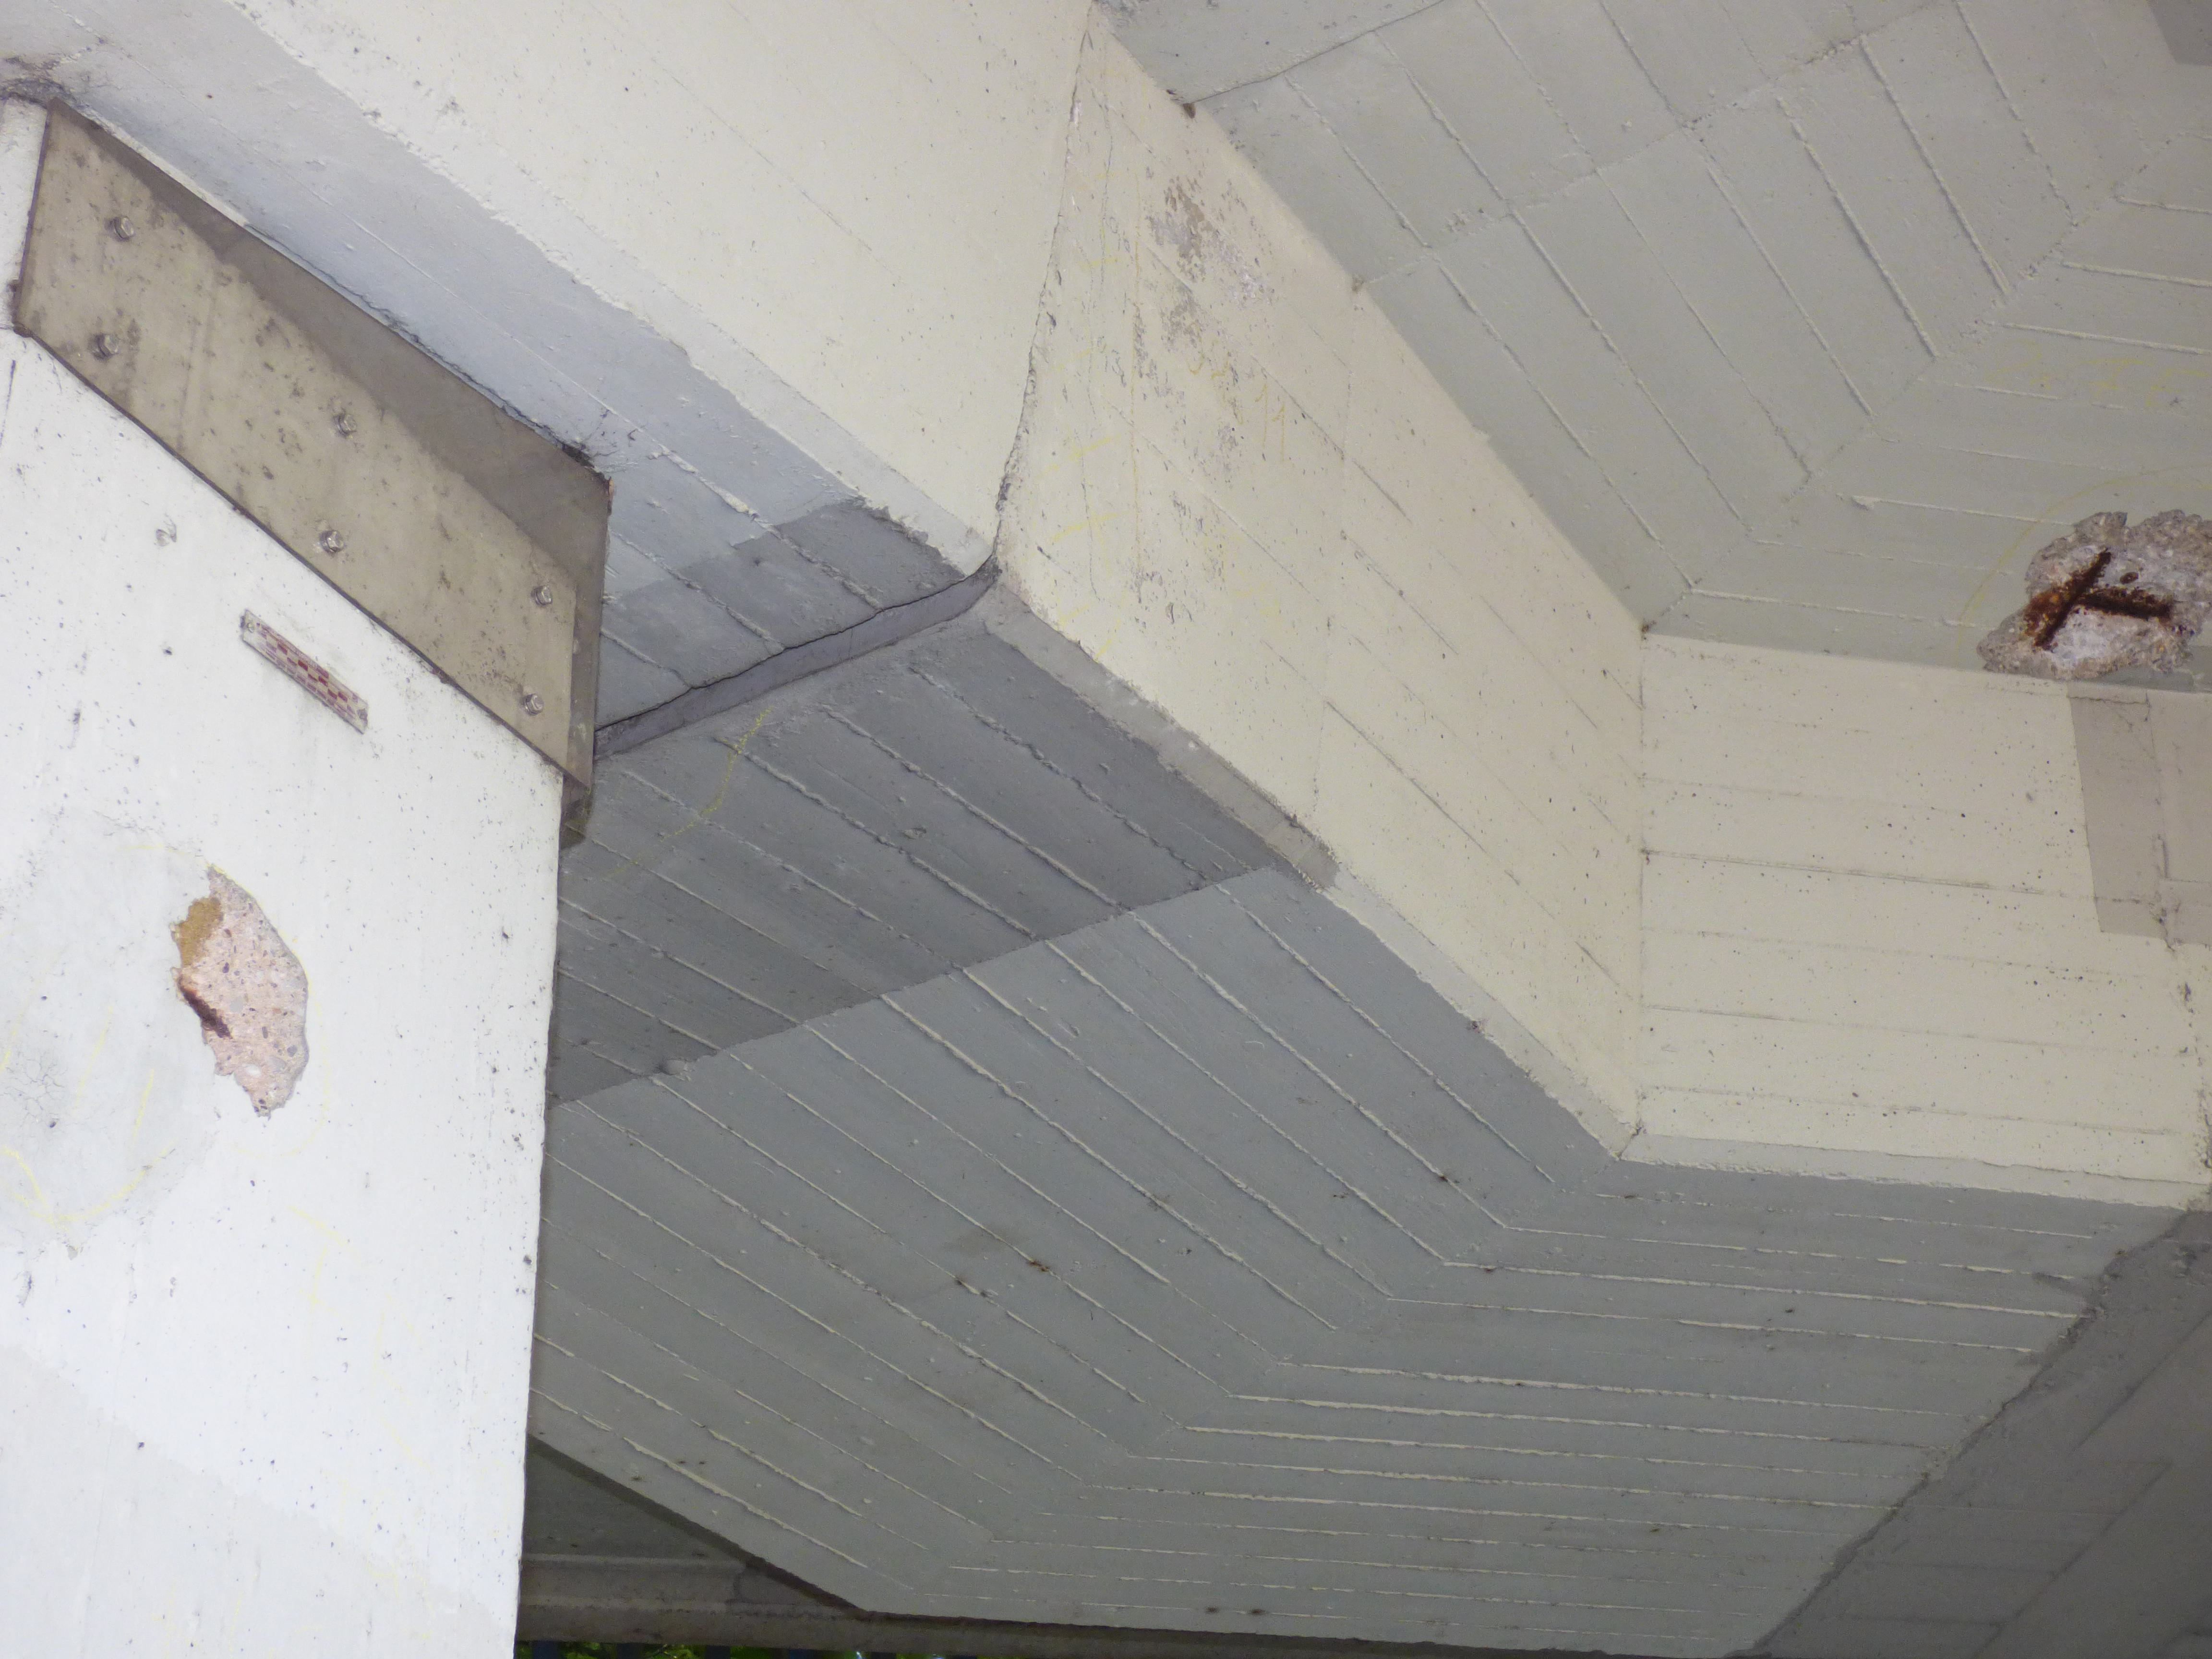Corrosion: (2022, 573, 2081, 636), (2120, 572, 2139, 586)
Exposed reinforcement: (2038, 552, 2111, 645), (178, 986, 233, 1040), (2085, 598, 2153, 620)
Spalling: (1975, 509, 2212, 681), (169, 868, 310, 1117)
